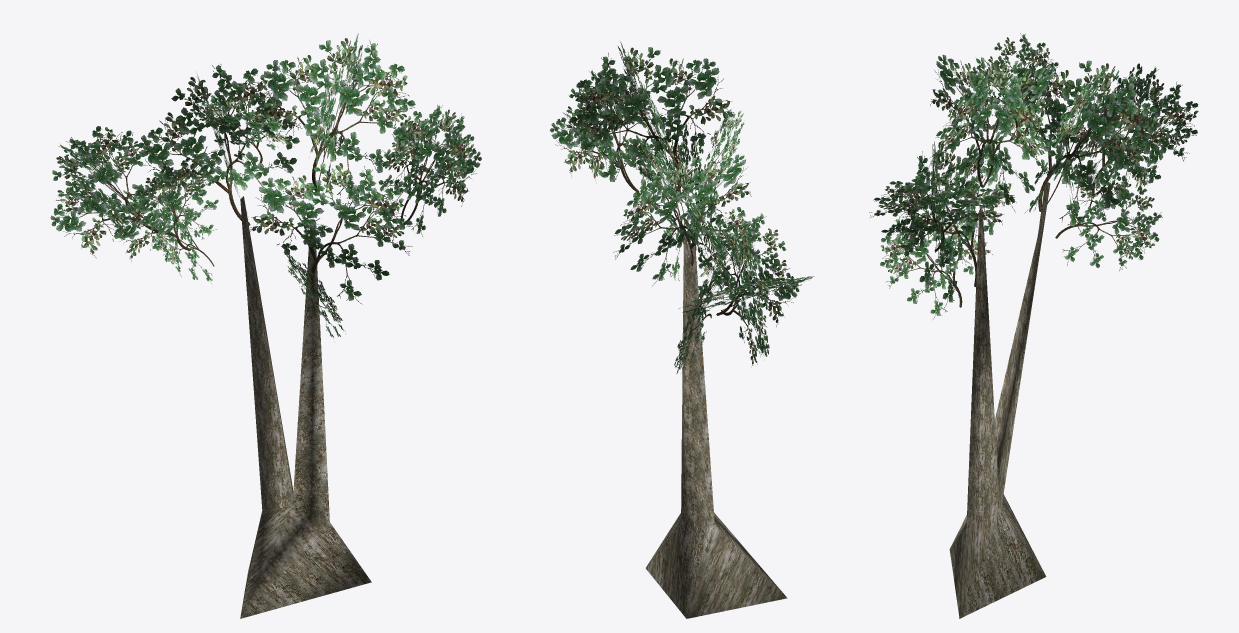
Rendered from decd_hollytreeleaves_l2.fbx.
3 renders of one model, left to right at view 1: azimuth 30°, elevation 25°; view 2: azimuth 150°, elevation 25°; view 3: azimuth 270°, elevation 25°, orthographic. The views are drawn at different scales.
Parts seen in each view (by area): view 1: mesh_node; view 2: mesh_node; view 3: mesh_node.
Part boxes in pixels (left/top/right/bottom): mesh_node: left=50, top=33, right=481, bottom=618; mesh_node: left=550, top=42, right=813, bottom=618; mesh_node: left=869, top=33, right=1198, bottom=618.
Bounding box in the file's own units: 13.1 × 18.47 × 10.5.
